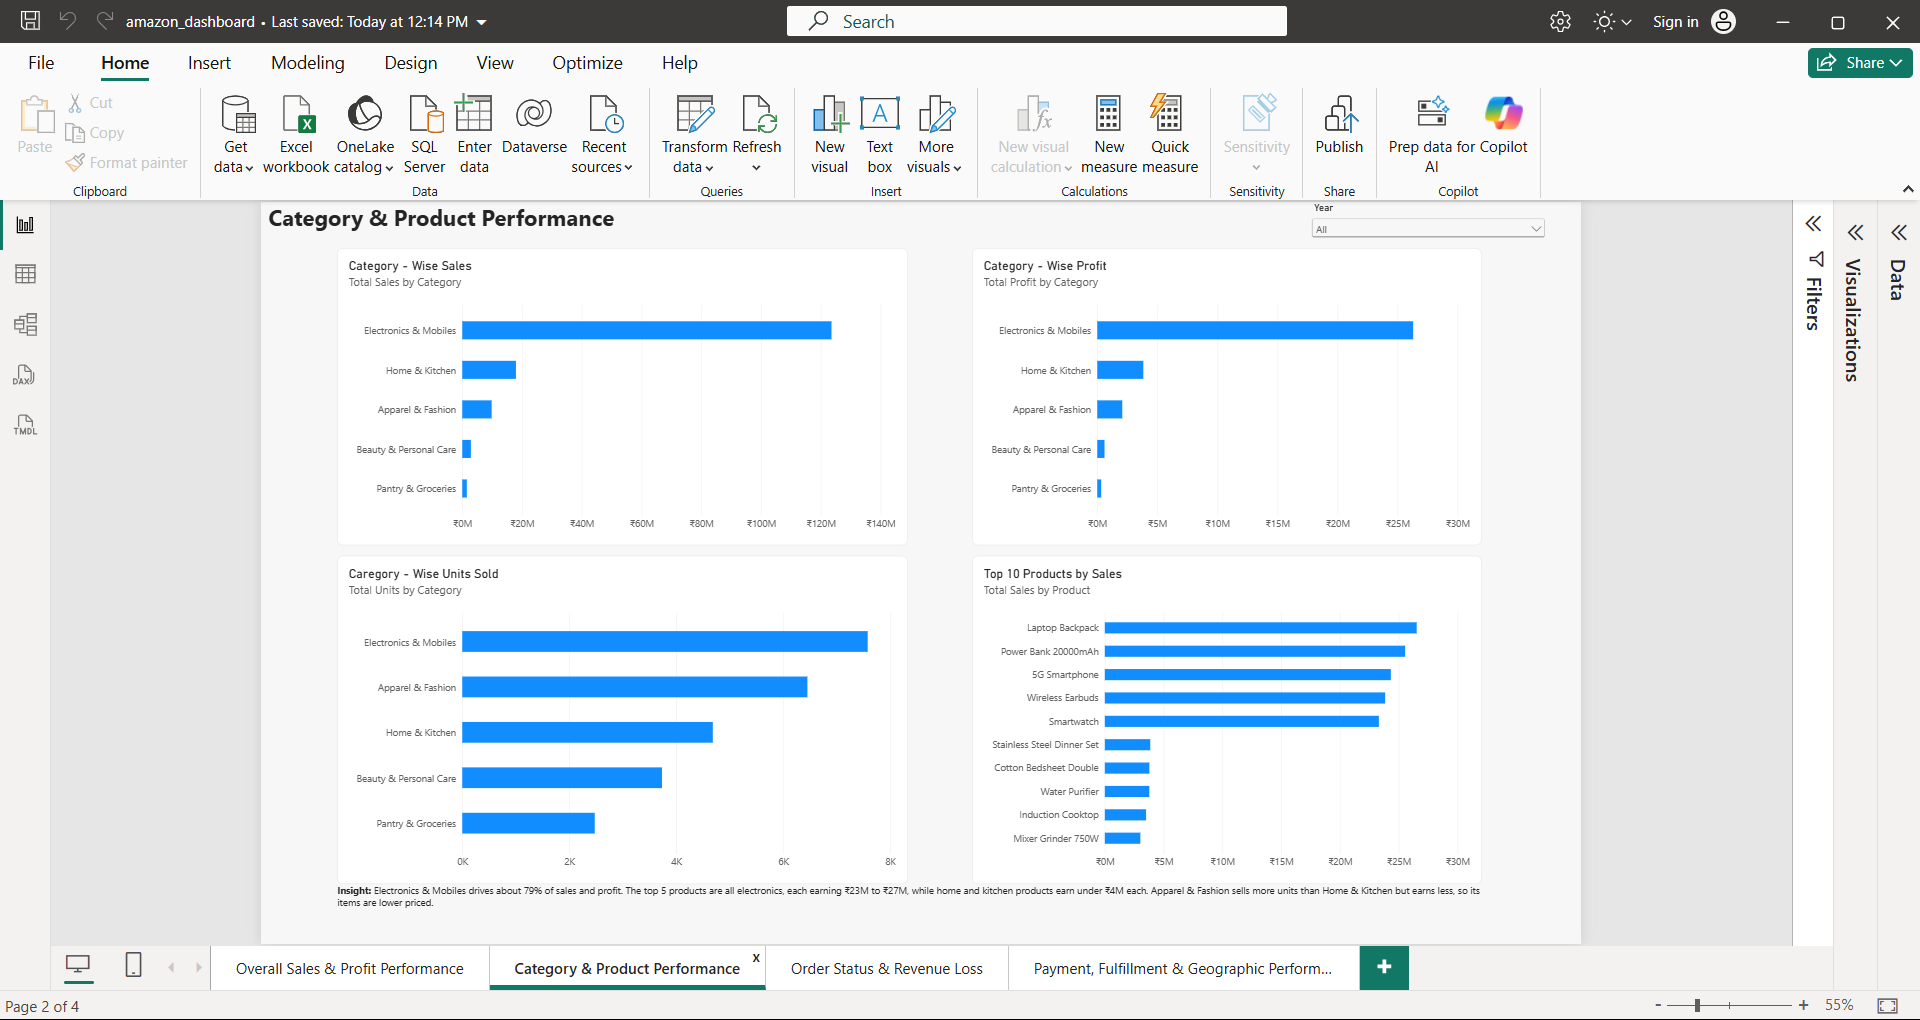

What the dashboard file says about the page in this screenshot:
{"tool":"powerbi","page":{"name":"Category & Product Performance","canvas":[1920,1080],"ordinal":1},"visuals":[{"type":"textbox","box":[10.9,0,528.4,50.7],"z":0},{"type":"barChart","title":"Category - Wise Sales","fields":{"Category":["Sales.Category"],"Y":["Sales.Total Sales"]},"box":[110.4,67,829.5,432.2],"z":1},{"type":"barChart","title":"Category - Wise Profit","fields":{"Category":["Sales.Category"],"Y":["Sales.Total Profit"]},"box":[1035.1,67,741,432.2],"z":2},{"type":"barChart","title":"Caregory - Wise Units Sold","fields":{"Category":["Sales.Category"],"Y":["Sales.Total Units"]},"box":[110.4,513.9,829.5,477.5],"z":3},{"type":"clusteredBarChart","title":"Top 10 Products by Sales","fields":{"Category":["Sales.Product"],"Y":["Sales.Total Sales"]},"box":[1035.1,513.9,741,477.5],"z":4},{"type":"slicer","fields":{"Values":["Sales.Year"]},"box":[1523.7,0,349.3,79.6],"z":5},{"type":"textbox","box":[110.4,991.7,1664.9,70.6],"z":6}]}

Visuals, with their boxes on the page's 1920x1080 design canvas (x1, y1, x2, y2). These are canvas units, not pixel positions in the 1920x1020 screenshot, which may show the page scaled, cropped or inside an application window:
textbox: 11/0/539/51
"Category - Wise Sales" barChart: 110/67/940/499
"Category - Wise Profit" barChart: 1035/67/1776/499
"Caregory - Wise Units Sold" barChart: 110/514/940/991
"Top 10 Products by Sales" clusteredBarChart: 1035/514/1776/991
slicer - Sales.Year: 1524/0/1873/80
textbox: 110/992/1775/1062
